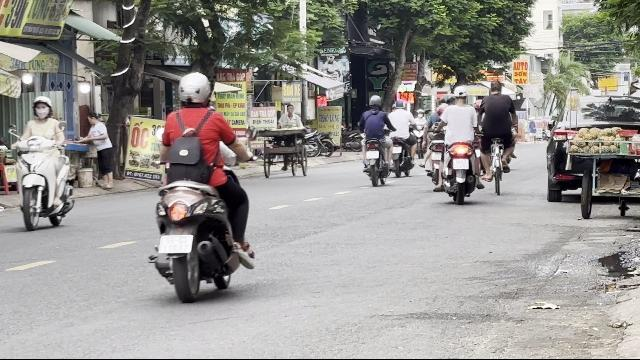helmet: (175, 71, 212, 107), (30, 95, 52, 119)
licenseplate: (160, 234, 192, 254), (453, 158, 469, 170)
motorcyclist: (145, 69, 255, 300), (10, 95, 74, 231), (435, 84, 481, 202)
nohelmet: (450, 86, 470, 106)
